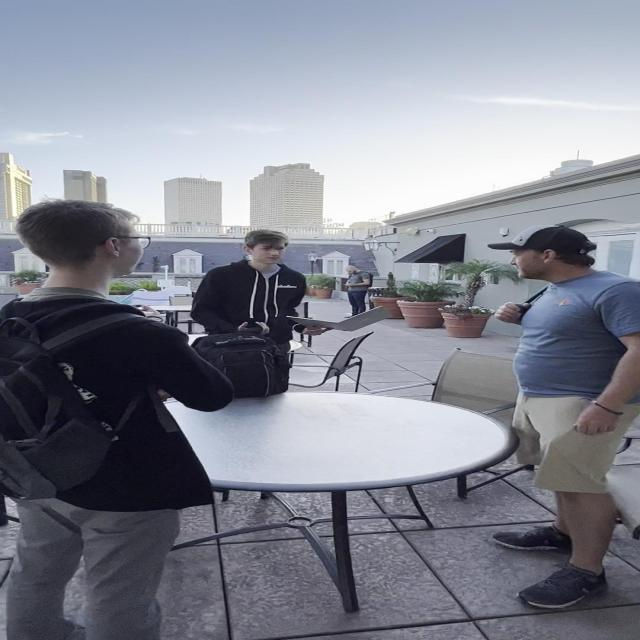NO-Mask: (116, 222, 146, 272), (508, 247, 545, 279), (254, 243, 288, 264), (348, 266, 362, 274)
